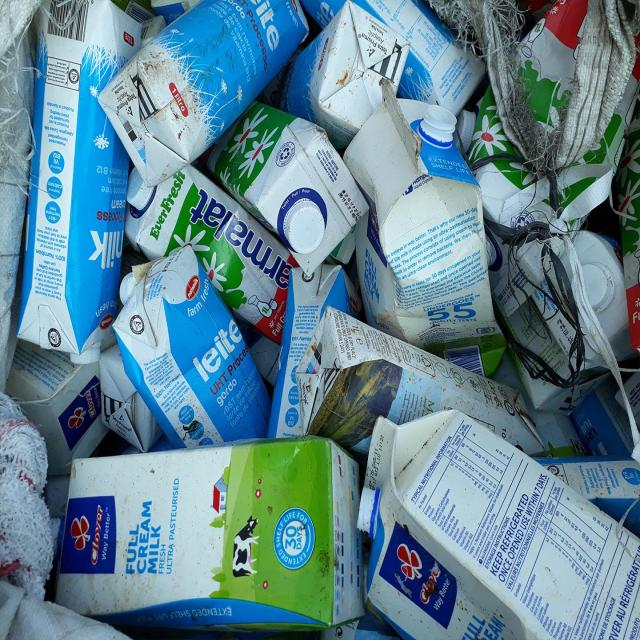cardboard: (361, 410, 640, 640), (49, 438, 357, 640), (124, 107, 359, 328), (15, 0, 135, 356), (341, 78, 495, 348), (297, 302, 550, 459), (98, 0, 314, 174), (100, 240, 271, 442), (303, 0, 483, 127), (265, 244, 358, 441), (1, 346, 152, 457)
